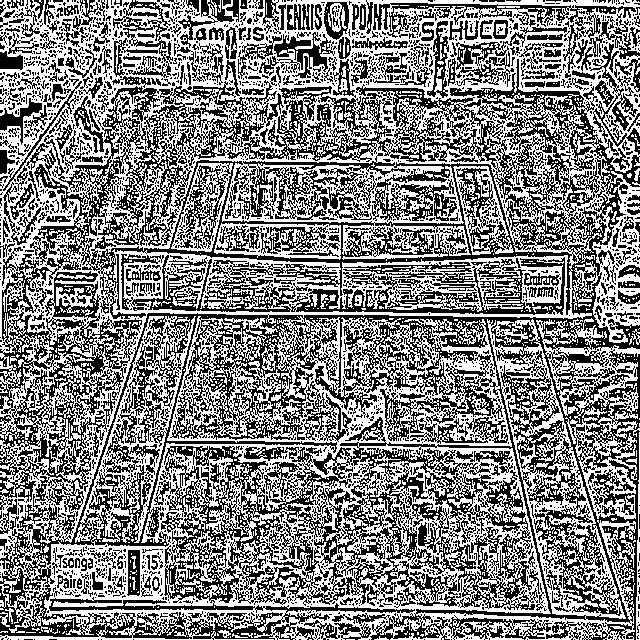left side: (49, 161, 234, 609), (451, 164, 627, 620)
player: (314, 364, 394, 474), (257, 64, 284, 150)
